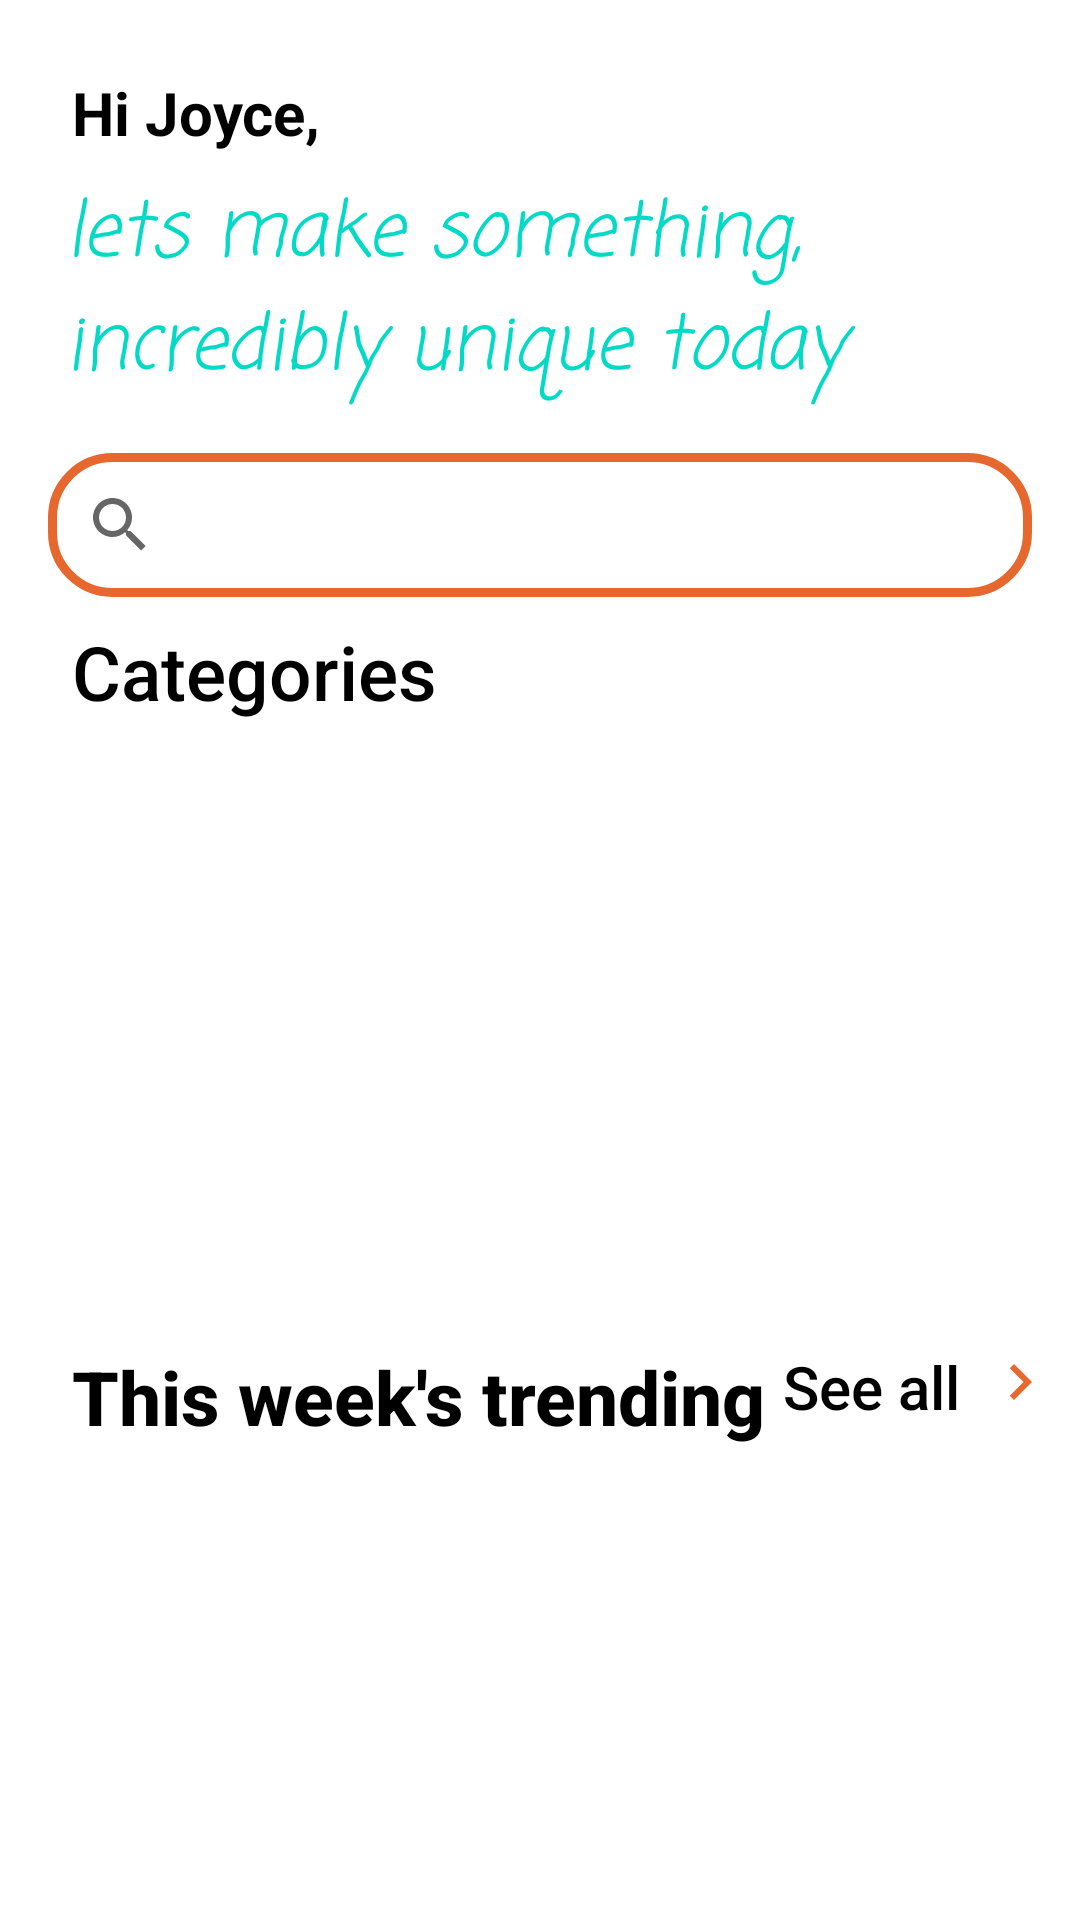

Icons on this 1080×1920 Android screen, each with its box as rect(x1, y1, x2, y2):
navigate next: rect(1010, 1364, 1032, 1400)
